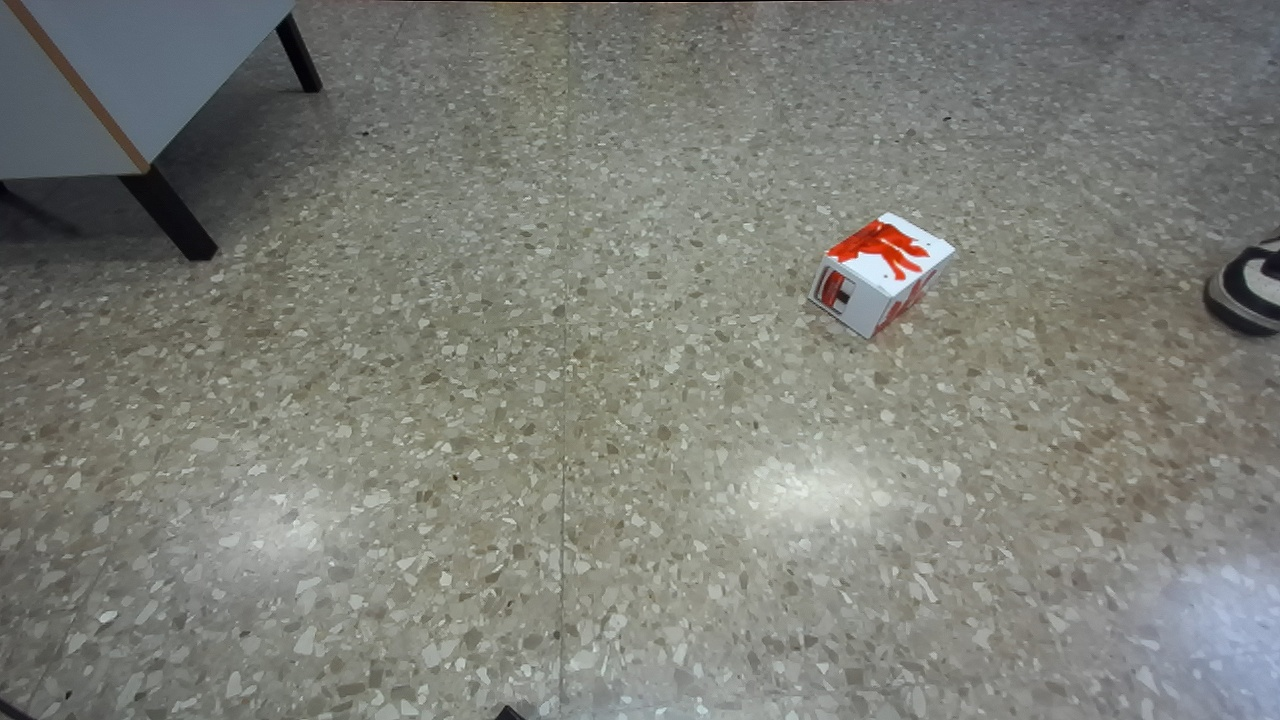caja_potencia: (809, 213, 953, 338)
